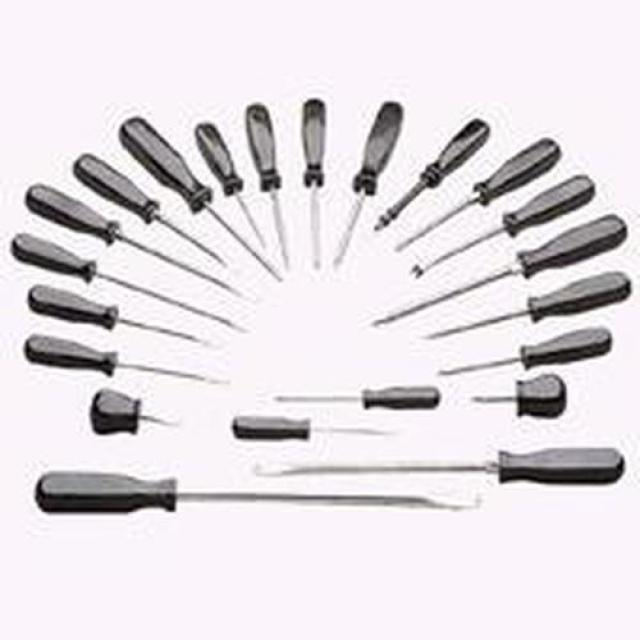screw driver: (27, 439, 532, 546), (244, 439, 640, 496), (278, 94, 350, 293), (435, 363, 640, 423), (78, 381, 235, 457), (218, 404, 394, 447)
